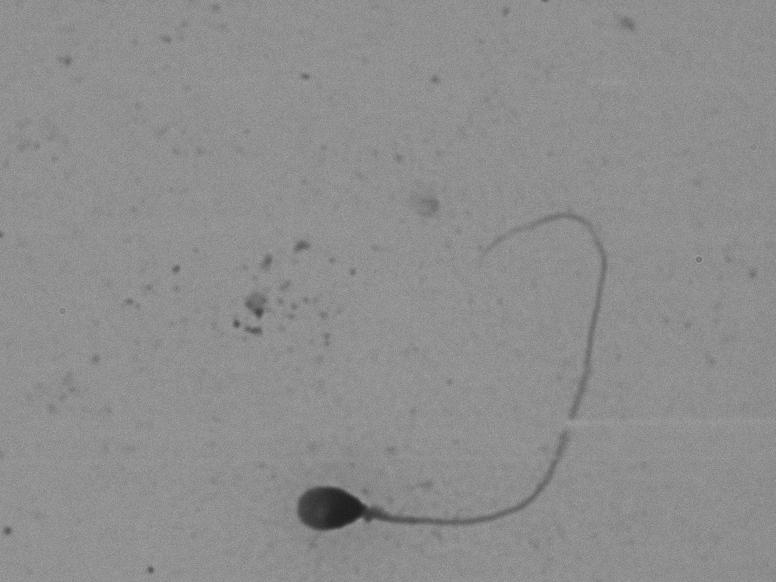Normal: (277, 205, 638, 551)
